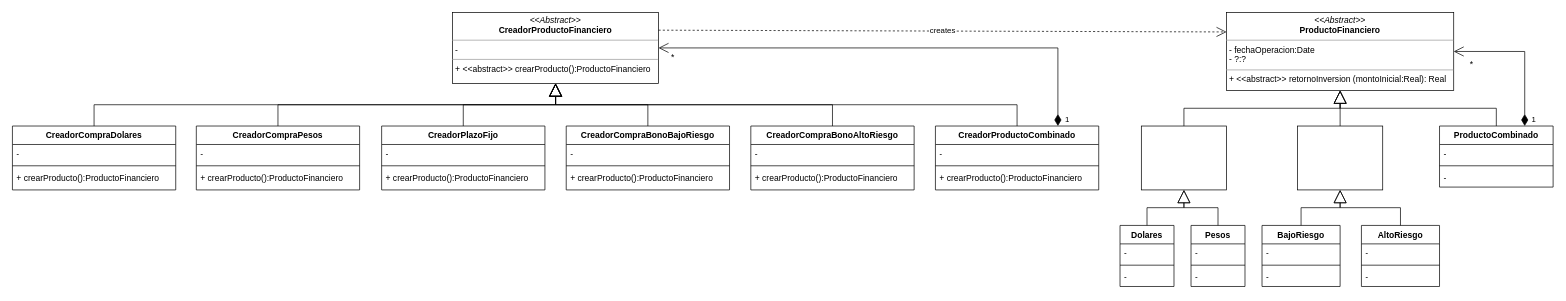
Some shapes in this 1566 by 301 pixel diagram are drawn without their labels. Each missing label, with the centre of its shape:
<<Abstract>> CompraBono - parking:Integer +: the point at 1340,157
<<Abstract>> CompraDivisa - valorCompra:Real +: the point at 1184,157
